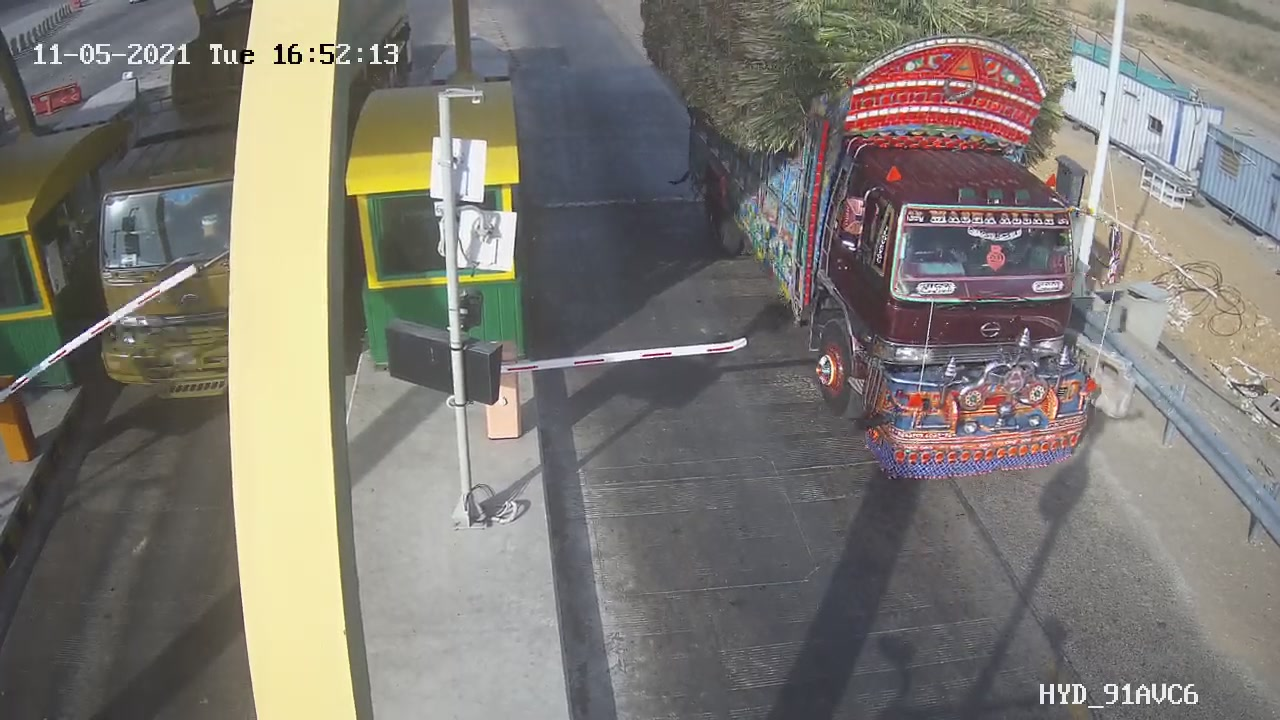F5: (651, 4, 1156, 505)
